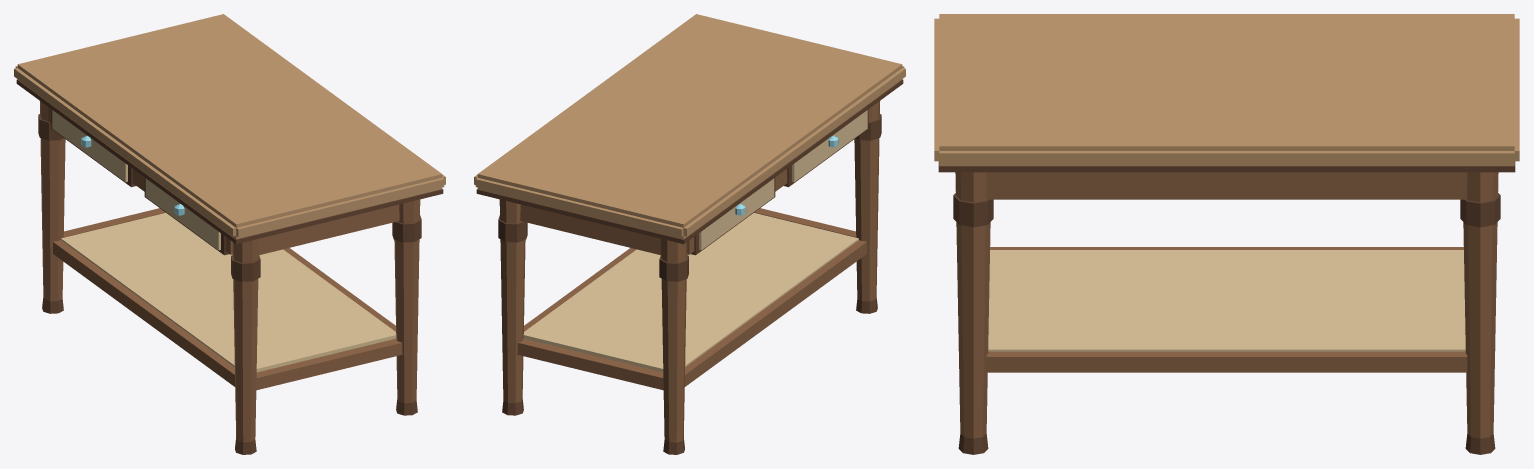
File: deco_furn_desk.obj
3 views of the same model, side by side, from view 1: azimuth 30°, elevation 25°; view 2: azimuth 150°, elevation 25°; view 3: azimuth 270°, elevation 25° (orthographic). The views are drawn at different scales.
Parts seen in each view (by area): view 1: deco_furn_desk; view 2: deco_furn_desk; view 3: deco_furn_desk.
Part boxes in pixels (box(x1,y1,x2,y2)): deco_furn_desk: box(14, 14, 445, 454); deco_furn_desk: box(474, 14, 905, 454); deco_furn_desk: box(934, 14, 1519, 454).
Size of the model in its own units: 0.74 by 0.8 by 1.34.
1 material, 1 textured.
